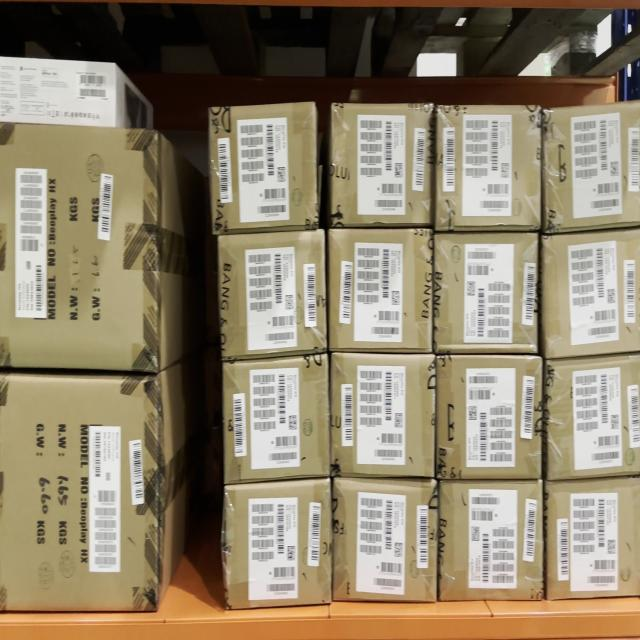box: (208, 109, 316, 231), (438, 106, 540, 226), (222, 364, 328, 479), (225, 487, 331, 602), (335, 356, 434, 478), (220, 235, 324, 351), (333, 103, 432, 223), (336, 482, 436, 598), (332, 234, 430, 351), (442, 483, 542, 597), (436, 235, 537, 346), (440, 362, 540, 472)
